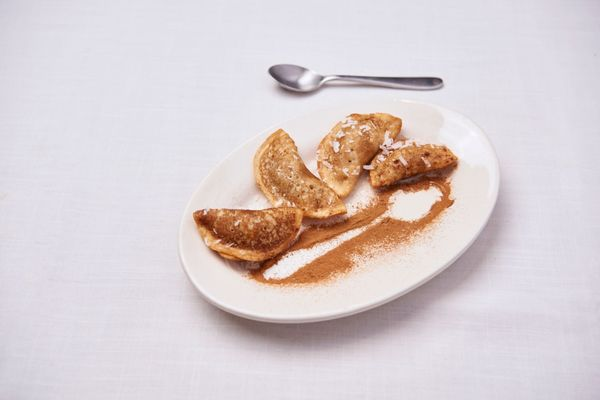salad: (267, 62, 444, 94)
